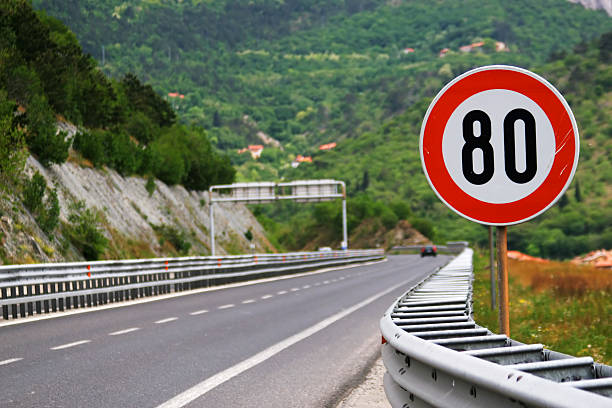Speed_limit_80km: (418, 65, 579, 227)
